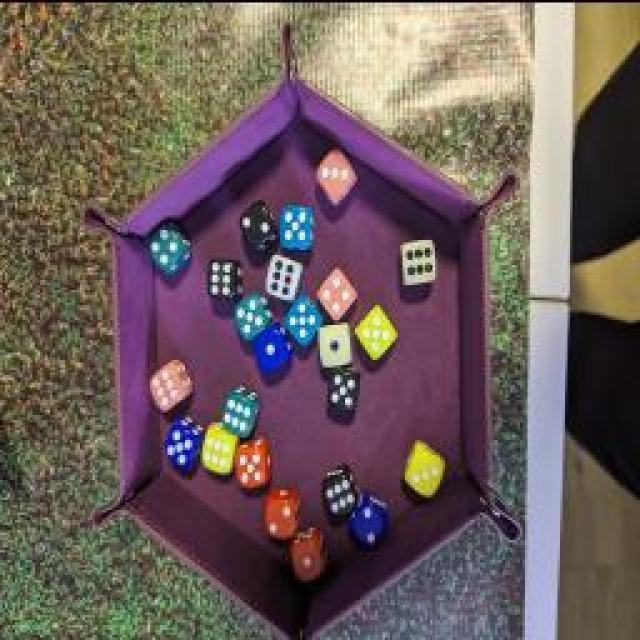dice_1: (312, 314, 358, 368), (289, 519, 329, 579), (252, 320, 292, 372)
dice_2: (261, 478, 301, 542), (349, 490, 389, 550), (235, 199, 280, 249)
dice_3: (311, 142, 361, 206), (402, 436, 446, 499)
dice_4: (145, 215, 197, 275), (315, 262, 357, 320)
dice_5: (350, 294, 400, 364), (161, 410, 204, 475), (284, 291, 328, 351), (232, 430, 272, 492), (275, 198, 320, 252), (230, 288, 270, 340), (320, 366, 365, 412)
dice_6: (145, 354, 195, 414), (316, 456, 362, 514), (198, 419, 242, 479), (218, 378, 262, 434), (264, 248, 304, 308), (399, 232, 441, 288), (204, 252, 244, 298)
